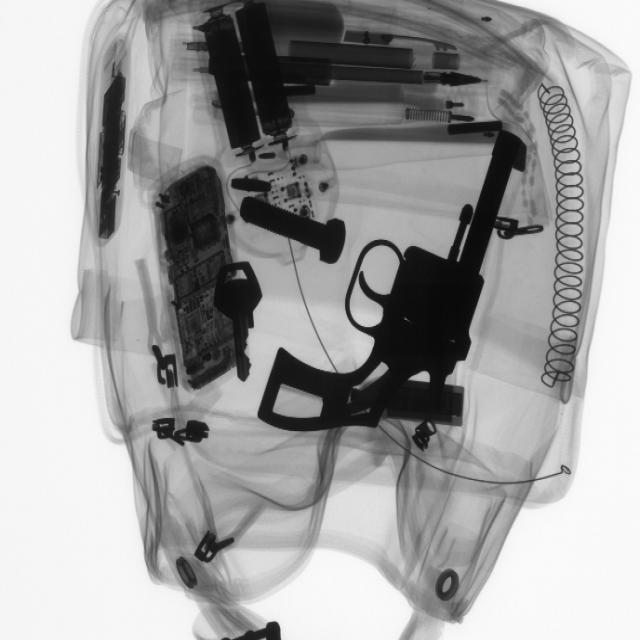GUN: (249, 130, 532, 433)
